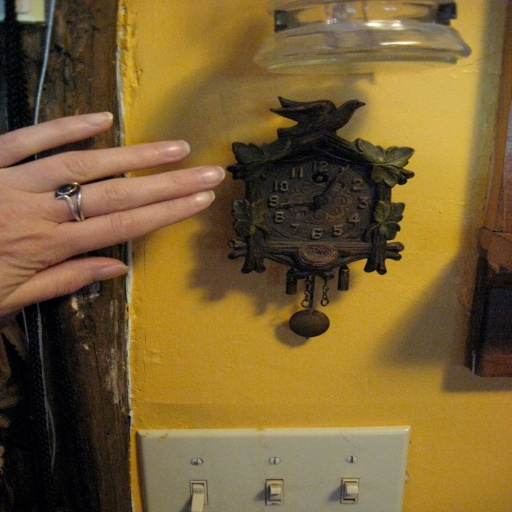hand: (0, 104, 240, 273)
